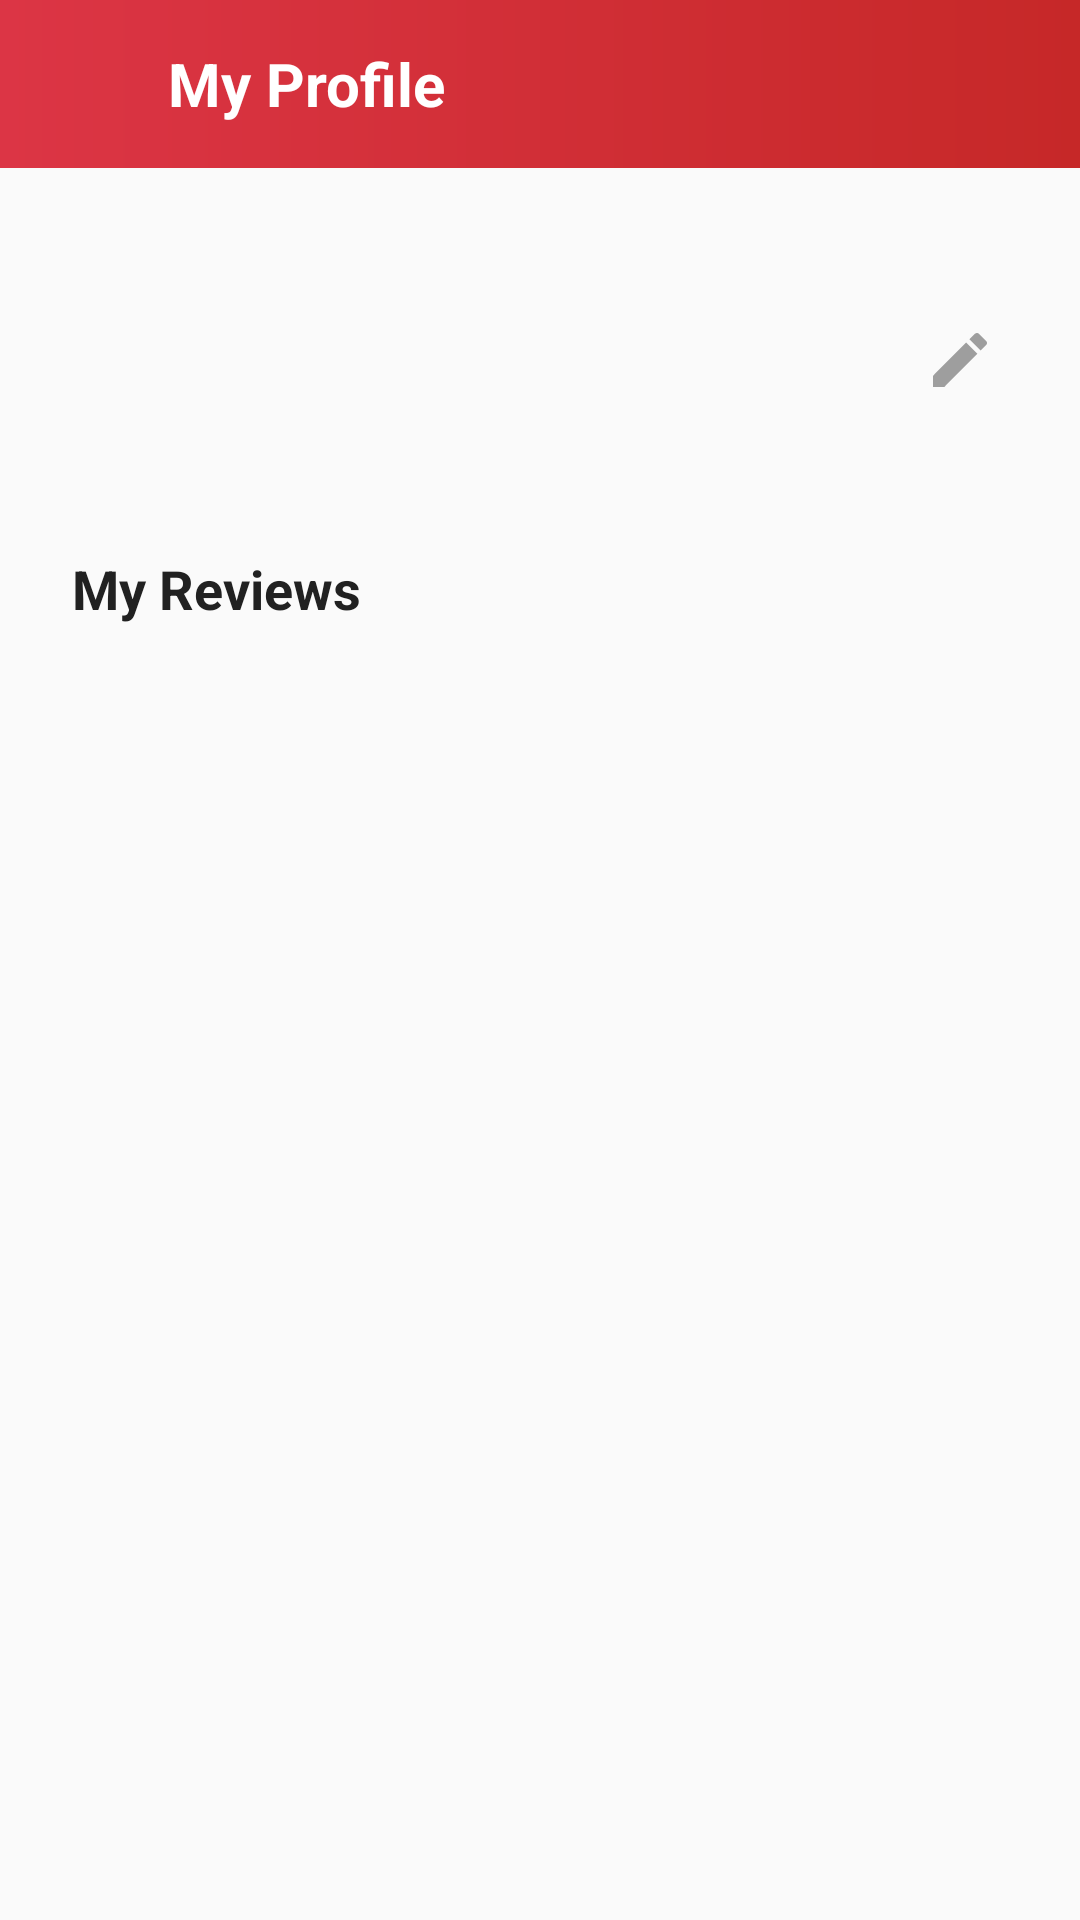

Icon bounding boxes for this 1080*1920 phone screenshot, format (x1, y1, x2, y2):
Edit profile: (933, 333, 987, 387)
